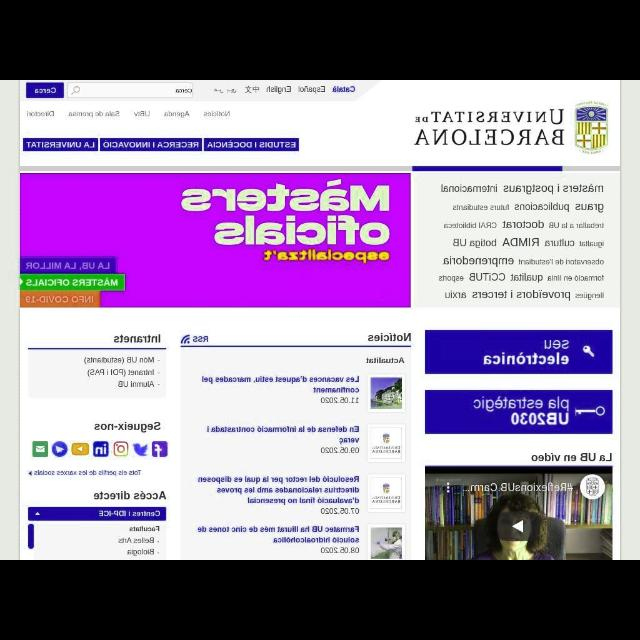button: (496, 514, 538, 540)
icon: (574, 406, 606, 418), (512, 520, 524, 534), (583, 345, 595, 357), (69, 86, 81, 96), (181, 335, 191, 345), (445, 481, 451, 493), (34, 511, 40, 517), (28, 471, 32, 477)
image: (426, 467, 612, 559), (574, 101, 610, 155), (370, 378, 402, 410), (370, 427, 402, 459), (370, 478, 402, 510), (371, 527, 402, 559), (580, 474, 604, 500), (151, 441, 167, 457), (93, 441, 109, 457), (32, 441, 48, 457), (71, 442, 89, 456), (51, 442, 67, 456), (114, 442, 128, 456), (132, 444, 148, 456)
input: (66, 84, 194, 98)
multitab: (26, 110, 230, 118)
text: (438, 184, 604, 300), (180, 179, 390, 263), (414, 109, 564, 148), (198, 476, 360, 506), (206, 426, 360, 446), (198, 526, 360, 544), (473, 396, 569, 426), (201, 376, 359, 394), (482, 338, 570, 366), (84, 356, 160, 388), (462, 483, 574, 493), (26, 277, 119, 287), (34, 469, 142, 477), (26, 261, 110, 271), (118, 537, 160, 557), (532, 453, 612, 463), (94, 421, 160, 433), (103, 140, 199, 148), (92, 491, 166, 501), (207, 140, 296, 148), (25, 294, 95, 304), (25, 140, 95, 148), (98, 510, 160, 518), (113, 334, 161, 344), (367, 333, 411, 343), (68, 110, 120, 118), (365, 357, 405, 365), (320, 447, 360, 455), (320, 507, 360, 515), (321, 396, 359, 404), (321, 546, 359, 554), (298, 86, 326, 94), (203, 110, 231, 118), (26, 110, 54, 118), (266, 86, 292, 94), (164, 111, 190, 119), (332, 85, 356, 93), (129, 526, 161, 532), (244, 84, 260, 94), (212, 88, 238, 94), (33, 88, 57, 94), (133, 110, 151, 118), (192, 335, 208, 343), (174, 88, 192, 94)
textbutton: (204, 138, 298, 152), (99, 139, 201, 151), (22, 138, 98, 152), (26, 83, 64, 99)
